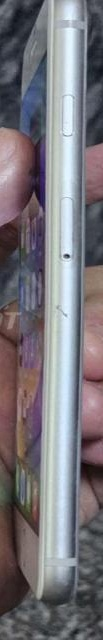scratch: (32, 296, 82, 328), (31, 570, 75, 606), (54, 9, 90, 34)
